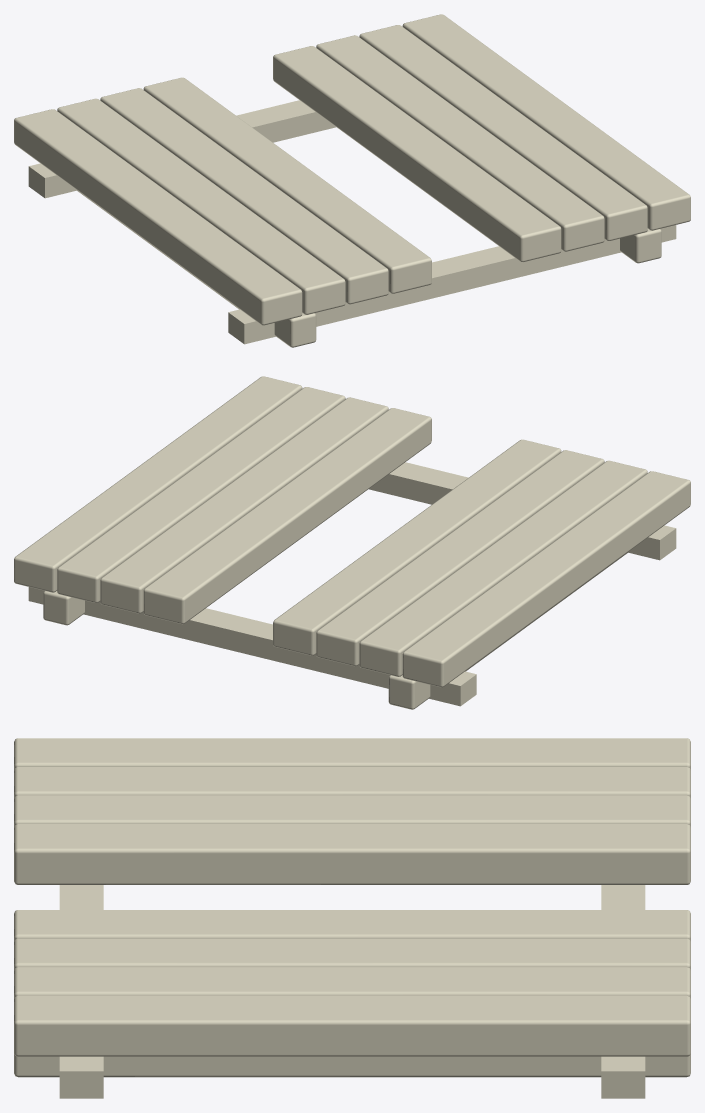
Rendered from bunker-shelter-construction-shelter-service-floor-a954cd6a__23294.glb.
The picture shows the model from 3 angles, top to bottom: view 1: azimuth 30°, elevation 25°; view 2: azimuth 150°, elevation 25°; view 3: azimuth 270°, elevation 25°; orthographic projection. The views are drawn at different scales.
Parts seen in each view (by area): view 1: shelter-service-floor; view 2: shelter-service-floor; view 3: shelter-service-floor.
Boxes of the visible parts, box(x1,y1,x2,y2) form: shelter-service-floor: box(14, 14, 690, 347); shelter-service-floor: box(14, 376, 690, 709); shelter-service-floor: box(14, 738, 690, 1098).
Size of the model in its own units: 2 by 0.25 by 2.
